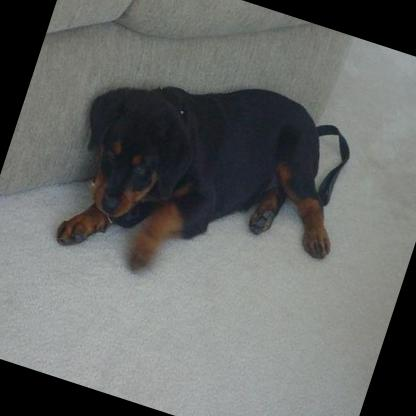Rottweiler: (44, 44, 368, 328)
